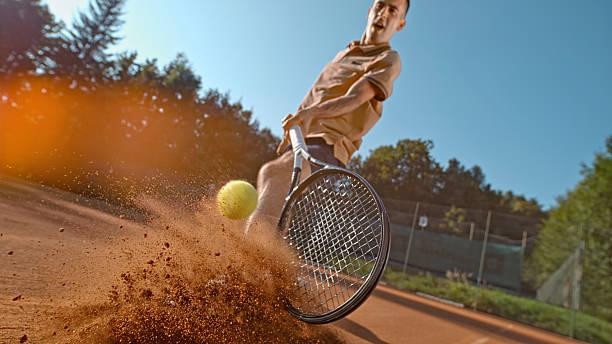ball_tennis: (217, 180, 258, 221)
